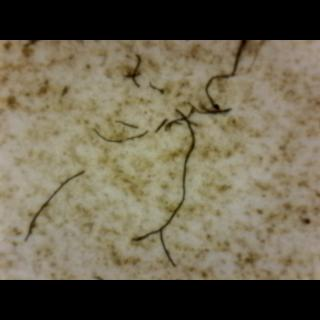Microplastic: (24, 154, 96, 240), (88, 112, 152, 152), (115, 44, 154, 92)
